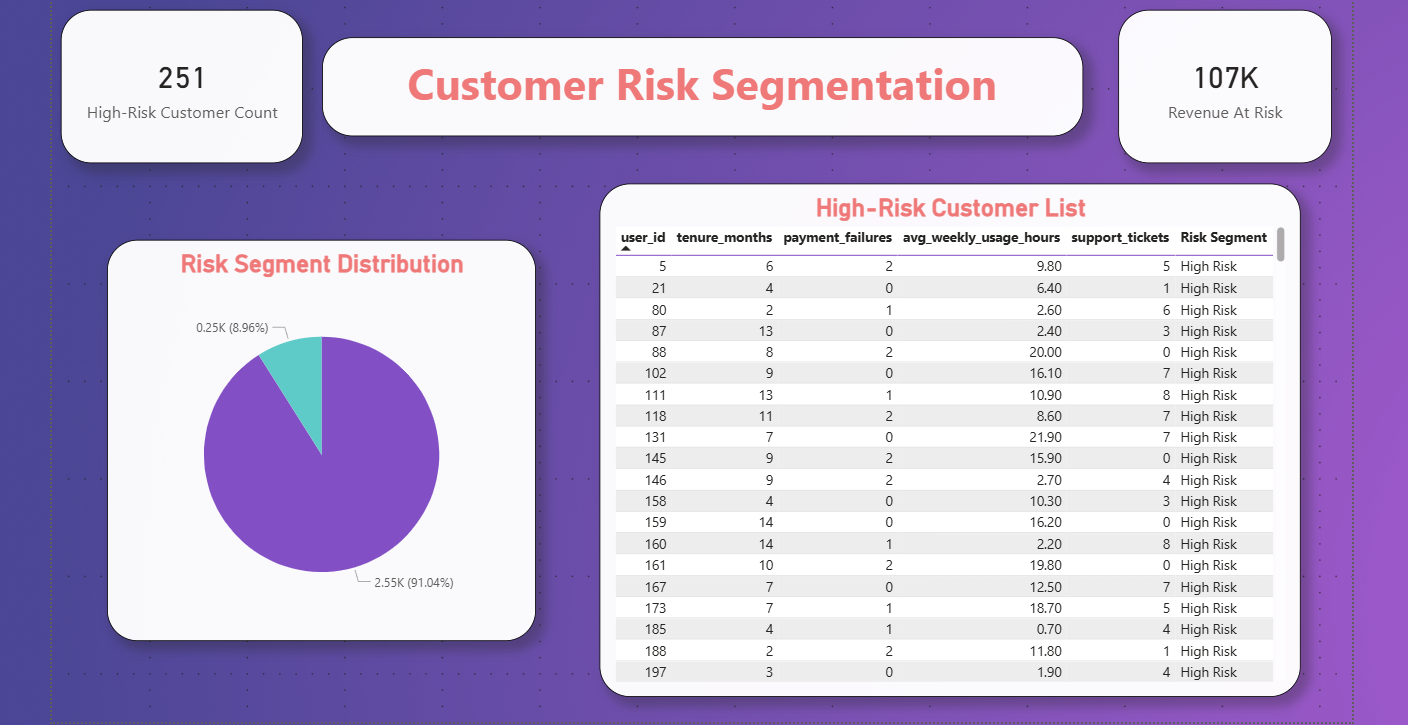

This screenshot's page, from the dashboard's own definition file:
{"tool":"powerbi","page":{"name":"Page 3","canvas":[1280,720],"ordinal":2},"visuals":[{"type":"textbox","box":[265.8,45.5,749.5,97.2],"z":0},{"type":"pieChart","title":"Risk Segment Distribution","fields":{"Y":["CountNonNull(churnanalysis.Risk Segment)"],"Category":["churnanalysis.Risk Segment"]},"box":[54.2,244.9,422.2,395.1],"z":1000},{"type":"card","fields":{"Values":["churnanalysis.Revenue At Risk"]},"box":[1049.8,18.5,210.5,151.4],"z":2000},{"type":"card","fields":{"Values":["CountNonNull(churnanalysis.Risk Segment)"]},"box":[8.6,18.5,238.8,151.4],"z":3000},{"type":"tableEx","title":"High-Risk Customer List","fields":{"Values":["churnanalysis.user_id","churnanalysis.tenure_months","churnanalysis.payment_failures","churnanalysis.avg_weekly_usage_hours","churnanalysis.support_tickets","churnanalysis.Risk Segment"]},"box":[539.1,189.5,690.5,505.8],"z":4000}]}

Visuals, with their boxes on the page's 1280x720 design canvas (x1, y1, x2, y2). These are canvas units, not pixel positions in the 1408x725 screenshot, which may show the page scaled, cropped or inside an application window:
textbox: {"x1": 266, "y1": 46, "x2": 1015, "y2": 143}
"Risk Segment Distribution" pieChart: {"x1": 54, "y1": 245, "x2": 476, "y2": 640}
card - churnanalysis.Revenue At Risk: {"x1": 1050, "y1": 18, "x2": 1260, "y2": 170}
card - CountNonNull(churnanalysis.Risk Segment): {"x1": 9, "y1": 18, "x2": 247, "y2": 170}
"High-Risk Customer List" tableEx: {"x1": 539, "y1": 190, "x2": 1230, "y2": 695}
